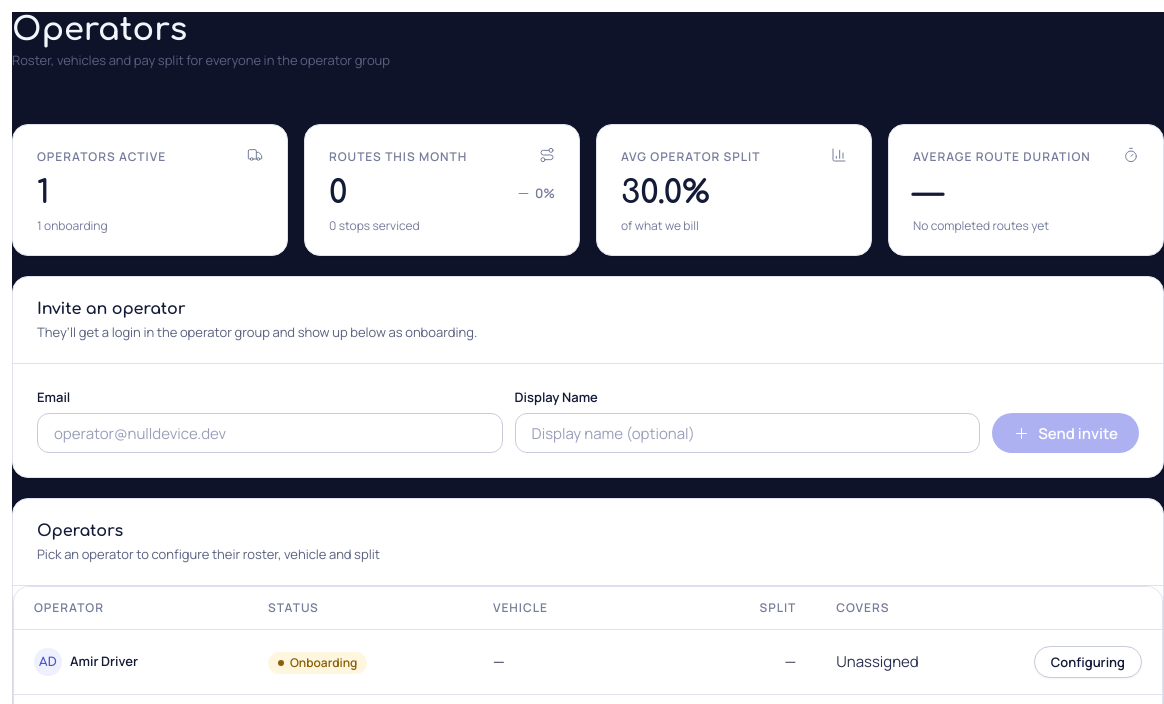
Test case: Administrator Operators page › shows an error and keeps the form filled in when inviting a driver fails
The image size is (1164, 704).
Step 1. Type "broken@nulldevice.dev" into the field named "email for new operator" → (270, 433), box left=37, top=413, right=503, bottom=453
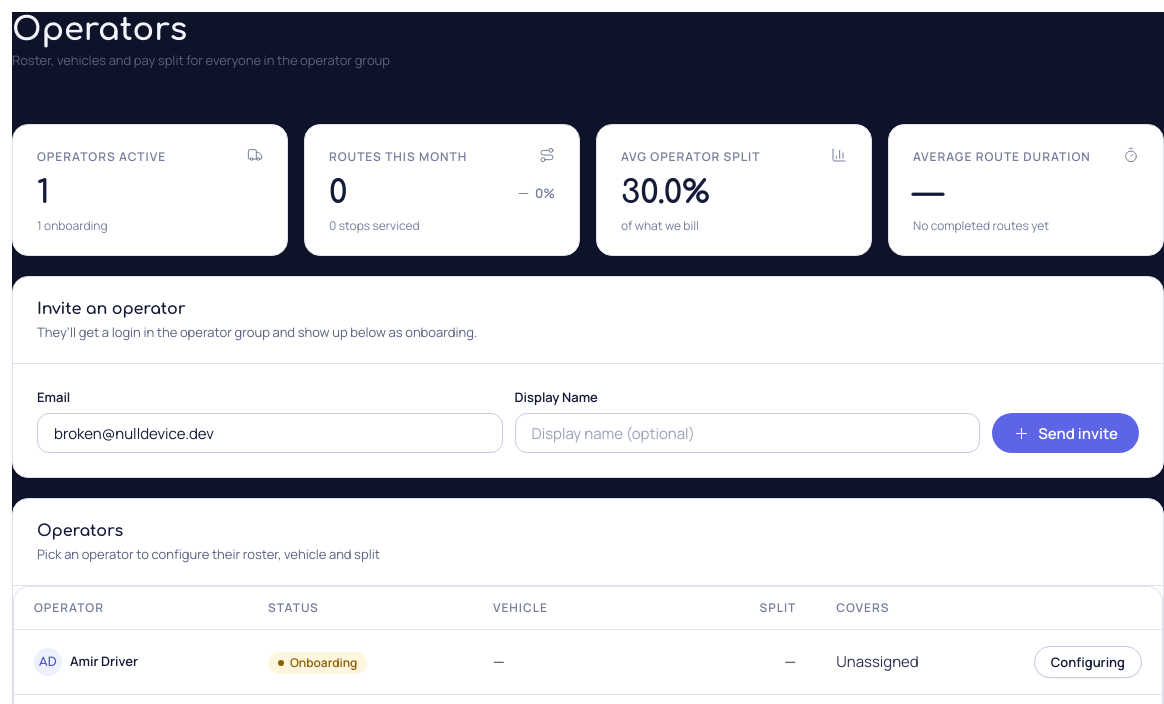
Step 2. Click the button "Send invite" → (1066, 433), box left=992, top=413, right=1139, bottom=453
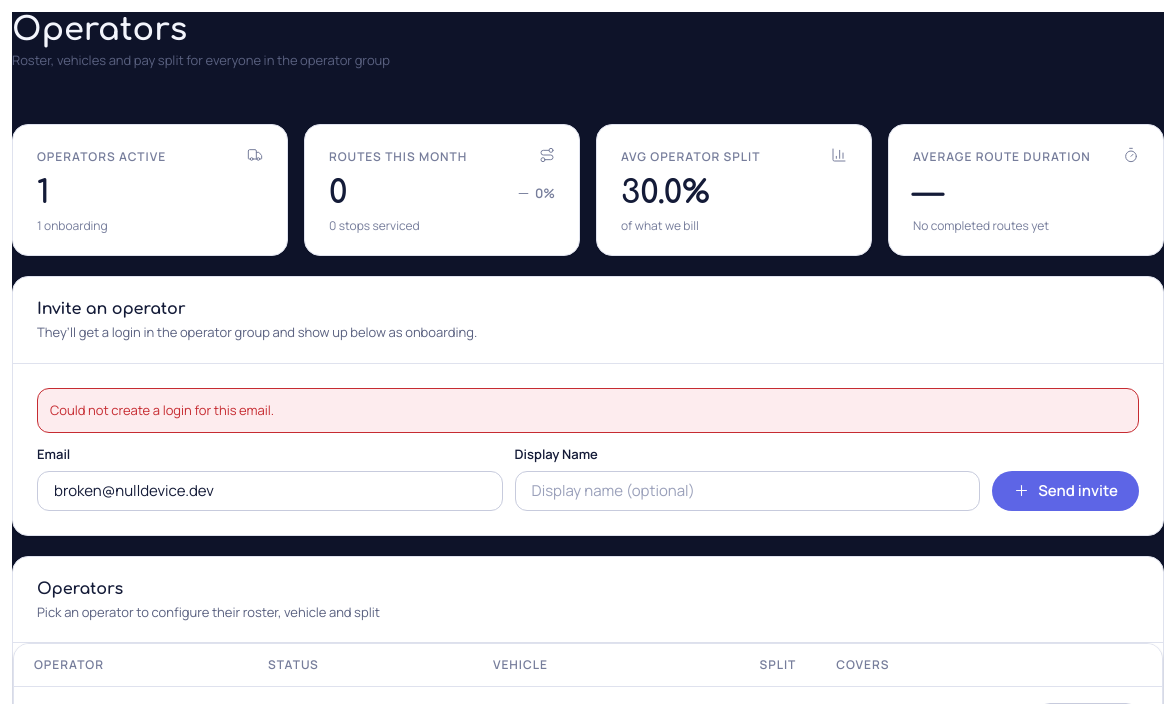
Now the text "Could not create a login for this email." is shown, box left=37, top=388, right=1139, bottom=433
